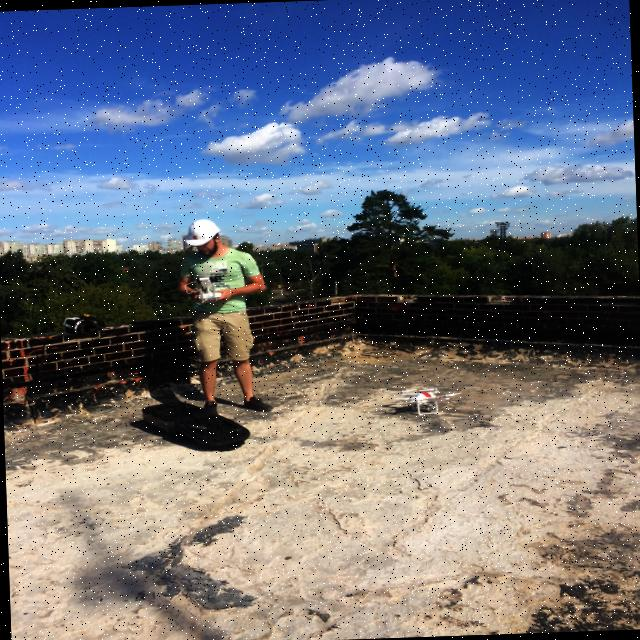Helmet: (187, 220, 222, 249)
NoJacket: (194, 246, 248, 317)
